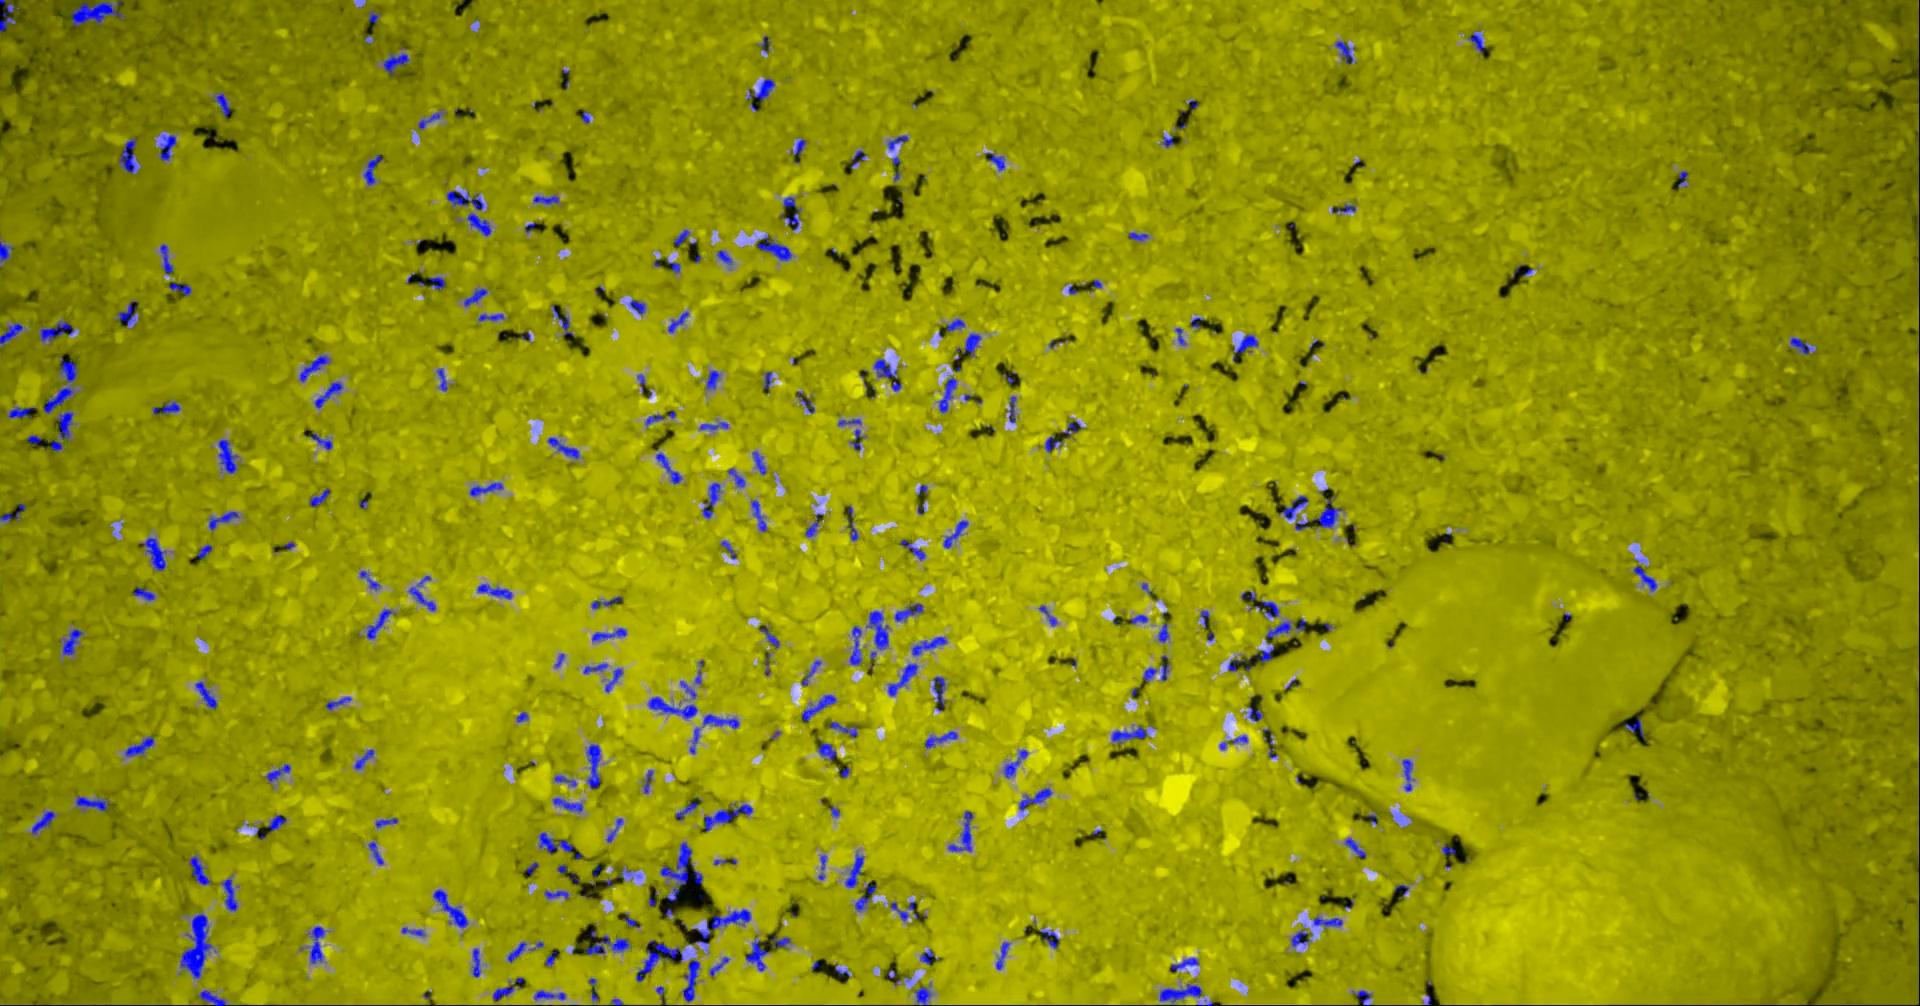ant: (662, 841, 703, 901), (182, 913, 215, 978), (44, 354, 79, 413), (693, 908, 752, 942), (637, 939, 684, 981), (1297, 498, 1343, 530), (1256, 621, 1291, 663), (72, 0, 126, 25), (434, 889, 470, 927), (705, 804, 754, 831), (649, 696, 698, 718), (949, 810, 974, 851), (889, 663, 919, 695), (409, 575, 437, 610), (803, 694, 837, 721), (748, 77, 776, 111), (875, 358, 903, 391), (758, 234, 792, 260), (52, 412, 75, 451), (867, 610, 890, 649), (587, 935, 632, 954), (301, 354, 331, 382), (142, 537, 168, 570), (1161, 983, 1204, 1002), (657, 452, 683, 483), (747, 935, 770, 970), (368, 608, 395, 638), (540, 832, 575, 854), (1020, 788, 1053, 810), (943, 520, 970, 547), (552, 304, 575, 335), (41, 320, 76, 340), (549, 437, 582, 459), (316, 381, 344, 406), (448, 191, 485, 210), (703, 481, 723, 518), (684, 959, 701, 1001), (913, 636, 949, 655), (1112, 725, 1148, 744), (61, 627, 85, 655), (1004, 749, 1029, 777), (676, 796, 703, 821), (218, 439, 239, 473), (190, 855, 212, 885), (856, 880, 877, 911), (846, 852, 865, 887), (1234, 334, 1258, 361), (1283, 495, 1309, 520), (119, 137, 137, 173), (588, 743, 602, 788), (1, 0, 22, 30), (1634, 565, 1658, 591), (785, 196, 803, 230), (940, 377, 957, 412), (196, 681, 218, 708), (364, 154, 383, 185), (126, 735, 155, 756), (926, 730, 959, 748), (210, 511, 240, 530), (385, 52, 411, 74), (891, 901, 919, 921), (311, 926, 326, 963), (469, 213, 493, 236), (1, 323, 24, 347), (957, 333, 982, 356), (33, 810, 57, 833), (703, 714, 742, 728), (752, 499, 768, 531), (479, 583, 513, 598), (118, 300, 138, 325), (902, 539, 927, 559), (77, 795, 110, 810), (223, 878, 239, 911), (851, 625, 863, 664), (897, 603, 924, 621), (471, 481, 505, 495), (803, 661, 822, 685), (593, 627, 629, 640), (606, 667, 623, 692), (267, 763, 292, 781), (1337, 39, 1355, 64), (215, 93, 232, 117), (465, 287, 489, 305), (161, 243, 175, 273), (830, 721, 858, 737), (554, 796, 584, 810), (1, 503, 27, 520), (607, 817, 623, 842), (669, 311, 690, 332), (761, 626, 781, 647), (1625, 716, 1646, 737), (1041, 927, 1062, 948), (711, 956, 731, 977), (797, 391, 817, 413), (1346, 838, 1368, 857), (420, 111, 443, 128), (161, 133, 177, 160), (1792, 337, 1815, 354), (806, 513, 824, 536), (201, 989, 227, 1005), (1256, 601, 1280, 617), (848, 506, 860, 540), (935, 676, 946, 710), (154, 400, 182, 414), (997, 941, 1011, 969), (1172, 956, 1200, 970), (311, 486, 331, 506), (361, 570, 381, 589), (593, 596, 623, 608), (356, 749, 376, 768), (509, 941, 528, 962), (1040, 605, 1058, 626), (1291, 929, 1313, 946), (494, 983, 516, 1000), (370, 841, 385, 864), (819, 742, 838, 760), (269, 814, 288, 832), (916, 986, 933, 1005), (1470, 32, 1487, 52), (312, 433, 334, 448), (328, 696, 353, 709), (1404, 760, 1415, 791), (753, 451, 767, 474), (988, 152, 1006, 170), (1046, 434, 1064, 452), (1063, 420, 1082, 437), (729, 467, 745, 486), (889, 135, 909, 150), (9, 406, 36, 418), (135, 586, 156, 600), (472, 948, 483, 977), (852, 150, 869, 168), (535, 989, 568, 998), (170, 282, 193, 295), (921, 949, 940, 964), (701, 420, 729, 431), (851, 429, 865, 450), (1316, 916, 1343, 926), (438, 367, 450, 391), (717, 249, 734, 265), (723, 540, 738, 558), (691, 727, 701, 753), (707, 370, 721, 389), (773, 934, 792, 948), (1229, 658, 1252, 669), (535, 194, 560, 205), (1, 240, 14, 260), (676, 229, 691, 245), (631, 298, 648, 314), (625, 912, 641, 927), (949, 318, 966, 332), (556, 775, 578, 786), (585, 663, 610, 673), (479, 312, 505, 321), (1356, 989, 1371, 1005), (430, 276, 447, 290), (377, 817, 399, 827), (795, 138, 808, 155), (1010, 395, 1017, 422), (648, 414, 665, 426), (645, 770, 654, 793), (590, 977, 599, 1000), (199, 544, 213, 558), (1144, 667, 1158, 681), (1250, 706, 1263, 720), (1159, 622, 1170, 641), (546, 950, 559, 965), (764, 371, 773, 392), (1162, 655, 1170, 680), (546, 890, 570, 898), (839, 418, 862, 426), (403, 927, 425, 935), (1131, 614, 1149, 622), (1130, 232, 1150, 240), (1333, 205, 1357, 211)
